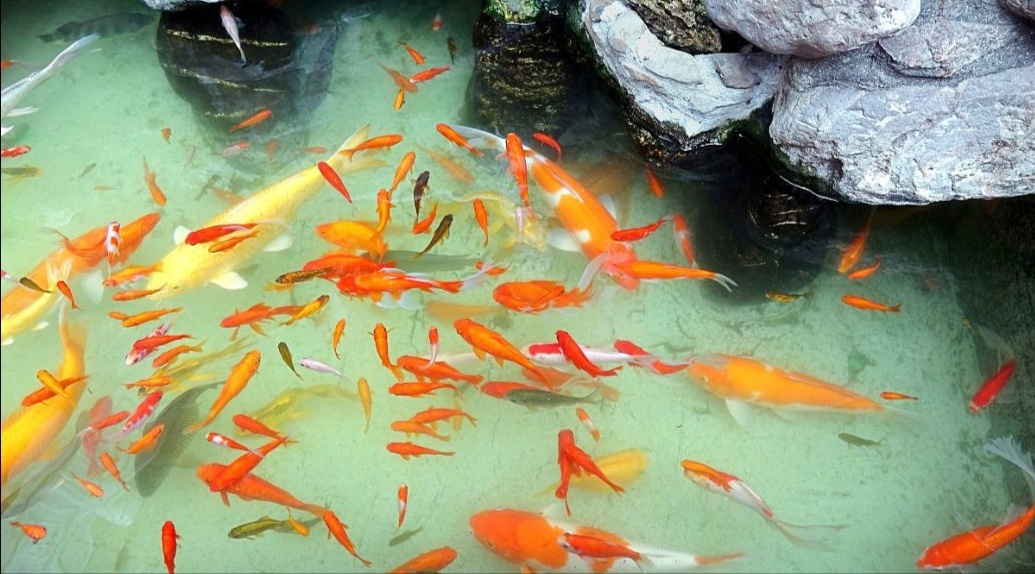fry: (146, 186, 309, 305), (684, 337, 864, 424), (540, 163, 649, 291), (675, 448, 819, 539), (1, 320, 86, 474), (910, 497, 1031, 570), (190, 456, 319, 520), (470, 498, 565, 570), (573, 132, 654, 210), (132, 407, 195, 503), (555, 516, 655, 569), (39, 1, 161, 43), (24, 225, 105, 287), (456, 316, 540, 375), (607, 250, 727, 289), (493, 271, 596, 316), (583, 435, 657, 495), (959, 342, 1017, 417), (517, 337, 627, 375), (332, 270, 454, 304), (207, 350, 267, 416), (313, 491, 362, 567), (612, 330, 686, 380), (382, 241, 486, 275), (308, 211, 387, 255), (485, 189, 542, 249), (1, 63, 52, 124), (69, 388, 114, 457), (361, 314, 405, 384), (499, 131, 536, 211), (298, 248, 390, 280), (606, 210, 670, 254), (558, 332, 609, 387), (311, 214, 376, 256), (214, 449, 277, 492), (307, 154, 360, 204), (563, 441, 619, 488), (839, 281, 907, 319), (213, 301, 280, 339), (224, 507, 284, 549), (667, 204, 704, 271), (394, 354, 473, 385), (211, 3, 255, 58), (123, 388, 179, 431), (2, 297, 51, 346), (434, 113, 481, 157), (554, 426, 583, 497), (513, 384, 595, 409), (344, 123, 406, 156), (833, 423, 895, 456), (118, 209, 163, 254), (150, 516, 186, 572), (419, 295, 498, 320), (377, 372, 455, 397), (385, 435, 452, 464), (123, 419, 173, 457), (198, 420, 247, 458), (227, 409, 285, 441), (415, 401, 479, 430), (226, 97, 279, 132), (135, 158, 172, 208), (395, 544, 463, 571), (829, 222, 868, 268), (299, 378, 358, 408), (104, 259, 167, 287), (321, 314, 360, 359), (180, 216, 247, 241), (119, 329, 163, 367), (405, 163, 433, 219), (378, 519, 416, 559), (67, 471, 113, 504), (115, 309, 181, 332), (288, 291, 334, 324), (257, 384, 304, 416), (371, 182, 398, 237), (533, 119, 570, 159), (469, 191, 501, 237), (422, 207, 457, 248), (762, 280, 815, 307), (13, 512, 56, 545), (636, 168, 676, 203), (389, 417, 445, 442), (477, 374, 530, 400), (51, 275, 83, 318), (271, 335, 300, 382), (297, 351, 344, 380), (436, 153, 477, 186), (352, 375, 377, 429), (97, 445, 129, 487), (377, 59, 415, 94), (149, 344, 202, 369), (97, 218, 124, 267), (389, 474, 417, 521), (186, 168, 223, 203), (421, 314, 443, 372), (269, 262, 318, 288), (382, 82, 412, 124), (573, 403, 609, 438), (385, 142, 418, 180), (82, 409, 130, 434), (206, 235, 263, 256), (81, 405, 125, 432), (104, 285, 170, 303), (121, 373, 180, 392), (7, 157, 47, 184), (15, 383, 56, 409), (851, 257, 889, 285), (217, 138, 259, 163), (213, 179, 251, 206), (32, 361, 64, 393), (1, 133, 34, 164), (1, 51, 36, 79), (399, 37, 427, 72), (404, 211, 432, 245), (408, 63, 445, 88), (134, 333, 199, 347), (880, 383, 923, 404), (293, 135, 330, 159), (287, 512, 313, 543), (17, 271, 47, 297), (422, 9, 449, 37), (86, 176, 121, 197), (442, 32, 462, 66), (70, 155, 97, 180), (157, 121, 181, 144), (102, 303, 124, 323)
